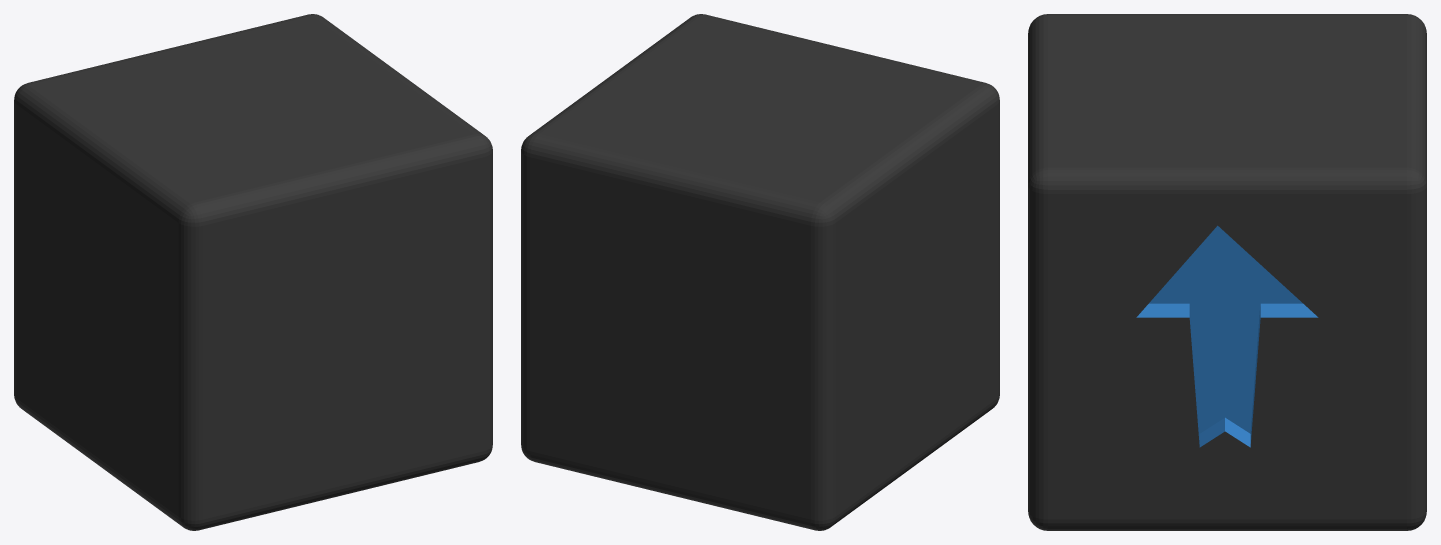
Rendered from ArrowCube.gltf.
The picture shows the model from 3 angles, left to right: view 1: azimuth 30°, elevation 25°; view 2: azimuth 150°, elevation 25°; view 3: azimuth 270°, elevation 25°; orthographic projection. The views are drawn at different scales.
Visible parts, largest first — view 1: ArrowCube; view 2: ArrowCube; view 3: ArrowCube.
Boxes of the visible parts, <box> form: ArrowCube: <box>14,14,492,530</box>; ArrowCube: <box>521,14,999,530</box>; ArrowCube: <box>1028,14,1426,530</box>.
Bounding box in the file's own units: 2 × 2 × 2.
